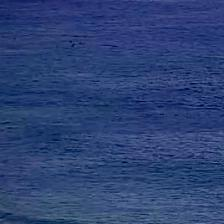surfer: (71, 44, 77, 50), (68, 39, 74, 43), (12, 37, 17, 41), (78, 41, 82, 45)
